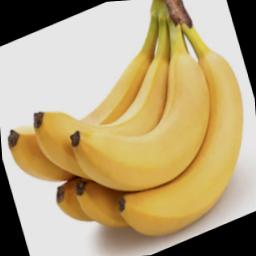Banana Ripe: (9, 8, 256, 256)
